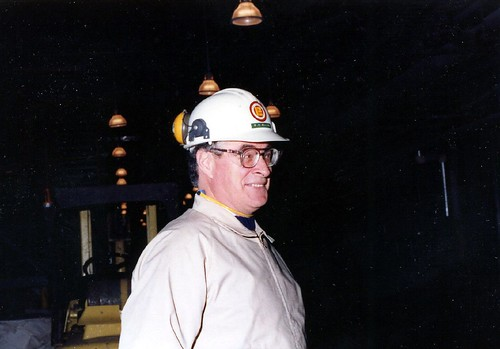person hardhat: (104, 85, 313, 349)
